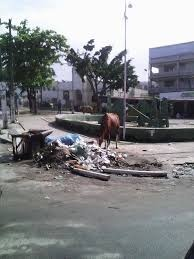rubble: (33, 137, 123, 175)
